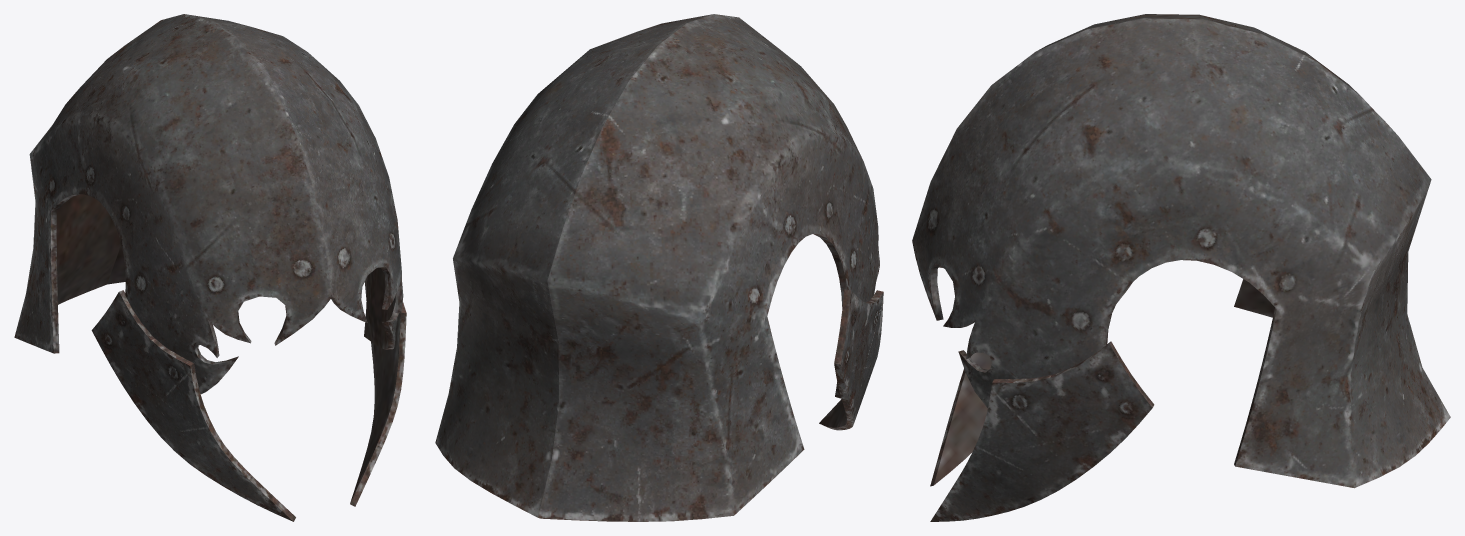
Rendered from sk_gb_uruk_helmet_med_f.fbx.
3 views of the same model, side by side, from view 1: azimuth 30°, elevation 25°; view 2: azimuth 150°, elevation 25°; view 3: azimuth 270°, elevation 25° (orthographic). The views are drawn at different scales.
Visible parts, largest first — view 1: sk_gb_uruk_helmet_med_f; view 2: sk_gb_uruk_helmet_med_f; view 3: sk_gb_uruk_helmet_med_f.
Boxes of the visible parts, left/top/right/bottom form: sk_gb_uruk_helmet_med_f: left=14, top=14, right=406, bottom=521; sk_gb_uruk_helmet_med_f: left=435, top=14, right=883, bottom=521; sk_gb_uruk_helmet_med_f: left=912, top=14, right=1450, bottom=521.
Size of the model in its own units: 0.2123 by 0.2956 by 0.2941.
1 material, 1 textured.
